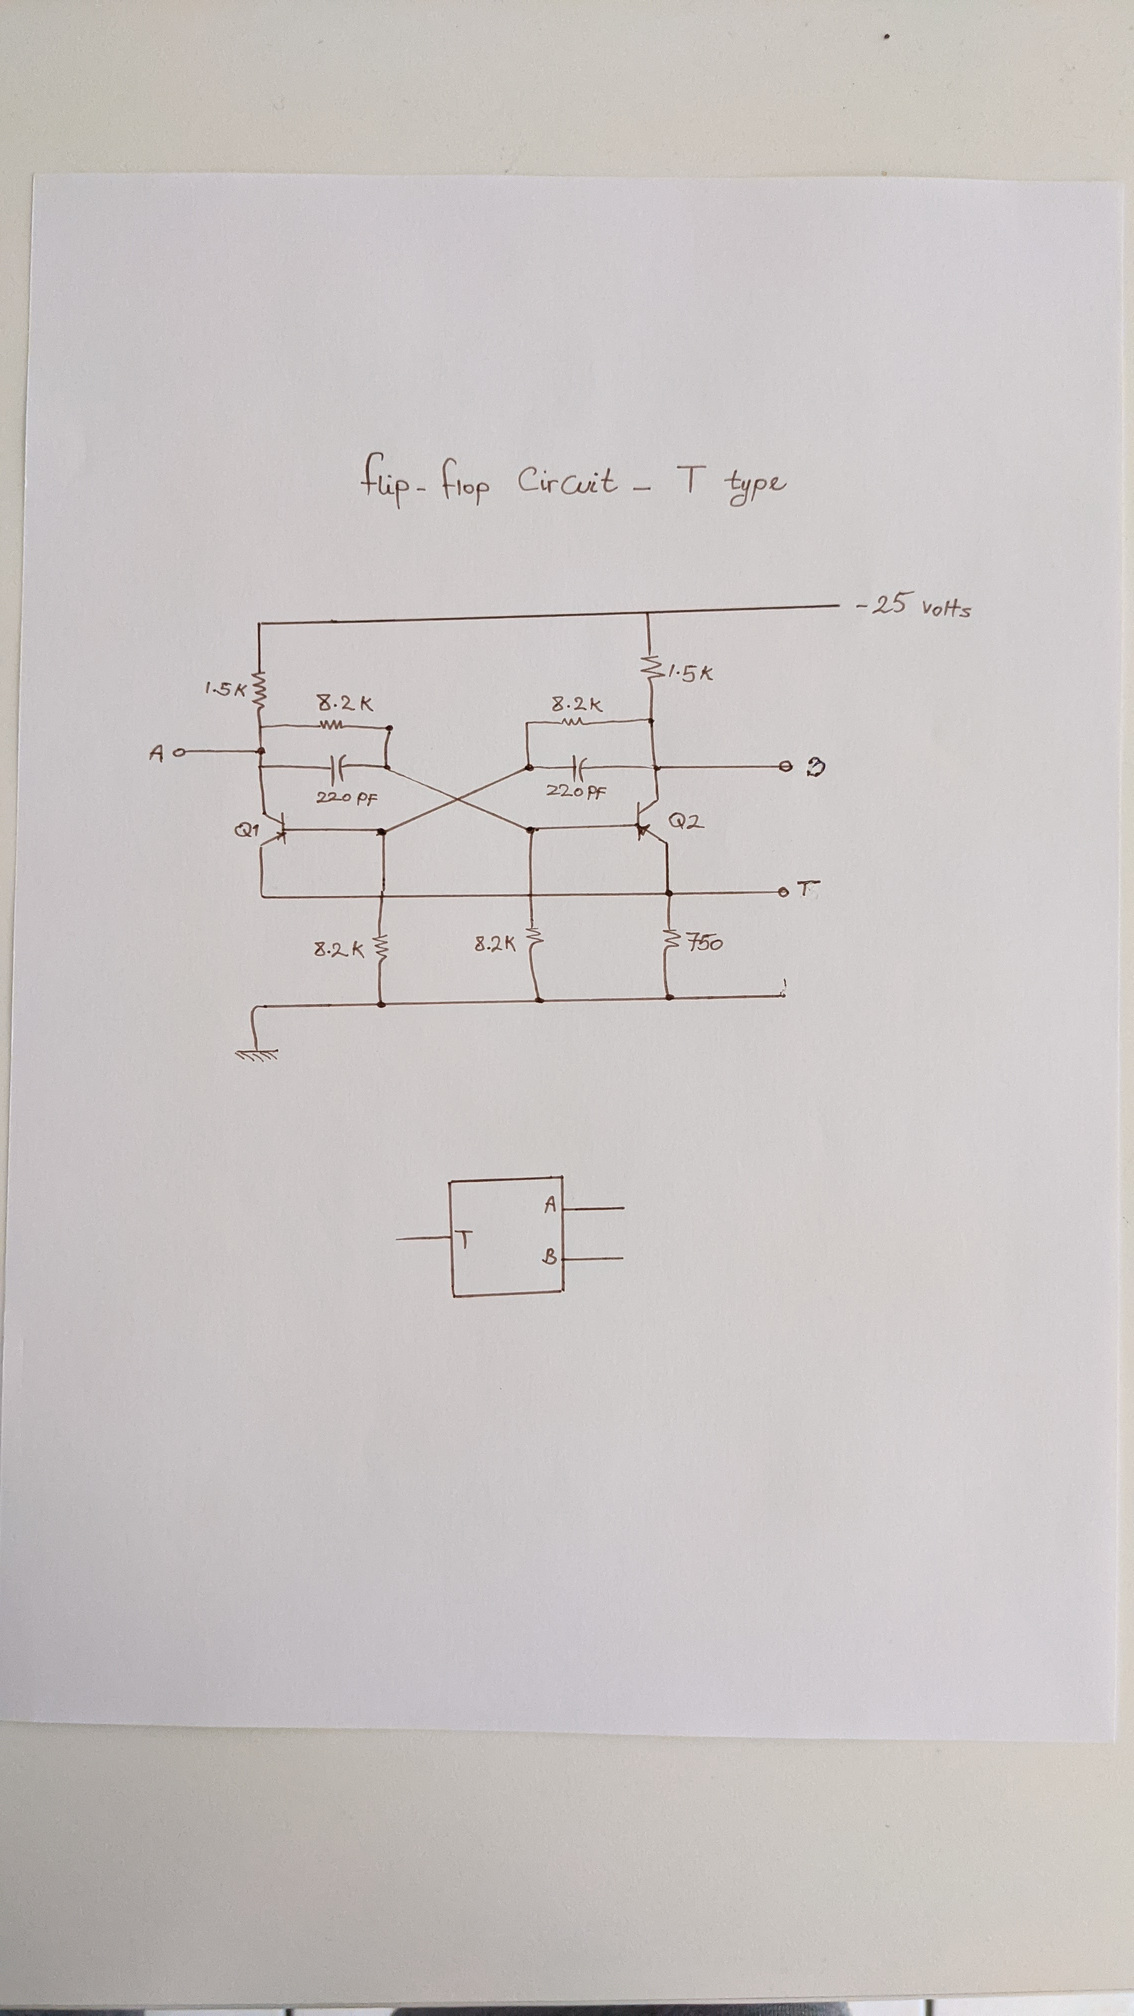capacitor.unpolarized: (325, 748, 350, 789), (570, 750, 591, 784)
crossover: (450, 792, 467, 809), (377, 886, 389, 901), (525, 889, 539, 900)
gnd: (233, 1045, 287, 1069)
integrated_circuit: (444, 1173, 568, 1302)
junction: (773, 987, 793, 1002), (372, 825, 392, 840), (645, 762, 666, 774), (522, 762, 537, 775), (532, 993, 547, 1007), (382, 721, 397, 735), (253, 744, 269, 757), (246, 1001, 260, 1016), (523, 824, 540, 836), (374, 998, 389, 1011), (379, 762, 395, 774), (662, 888, 677, 899), (644, 714, 659, 726), (663, 991, 678, 1002), (253, 721, 269, 732), (253, 618, 266, 630), (642, 606, 654, 620), (258, 889, 269, 903), (255, 762, 267, 773), (523, 719, 532, 728)
resistor: (638, 652, 667, 685), (249, 667, 269, 713), (371, 932, 392, 966), (659, 925, 683, 955), (522, 924, 546, 953), (313, 717, 348, 732), (557, 714, 588, 730)
terminal: (169, 744, 188, 760), (775, 883, 792, 900), (775, 759, 793, 774), (832, 598, 847, 612), (618, 1252, 629, 1266), (619, 1202, 630, 1214), (390, 1234, 402, 1245)
text: (359, 450, 791, 511), (854, 587, 973, 620), (314, 691, 378, 714), (312, 937, 366, 961), (314, 789, 379, 809), (550, 692, 606, 714), (546, 782, 608, 802), (666, 660, 716, 684), (683, 928, 726, 954), (472, 932, 519, 955), (666, 809, 708, 834), (202, 678, 248, 701), (803, 753, 829, 780), (233, 820, 262, 840), (796, 876, 822, 899), (453, 1228, 476, 1252), (147, 742, 166, 764), (539, 1245, 558, 1267), (540, 1194, 558, 1216)
transistor: (631, 796, 672, 847), (256, 807, 289, 852)
